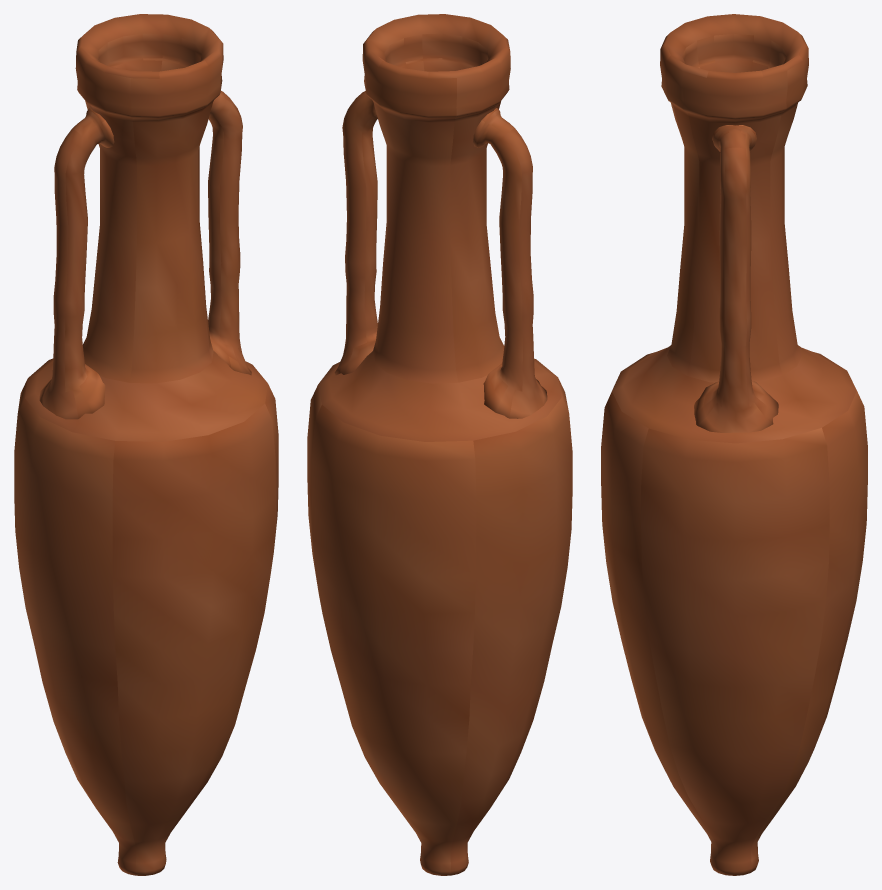
The model's file is SM_amphora02.fbx.
The picture shows the model from 3 angles, left to right: view 1: azimuth 30°, elevation 25°; view 2: azimuth 150°, elevation 25°; view 3: azimuth 270°, elevation 25°; orthographic projection.
Parts seen in each view (by area): view 1: amphora02; view 2: amphora02; view 3: amphora02.
Part boxes in pixels (<box>): amphora02: <box>14,14,278,875</box>; amphora02: <box>307,14,572,875</box>; amphora02: <box>601,14,867,875</box>.
Bounding box in the file's own units: 30.68 × 104 × 30.38.
